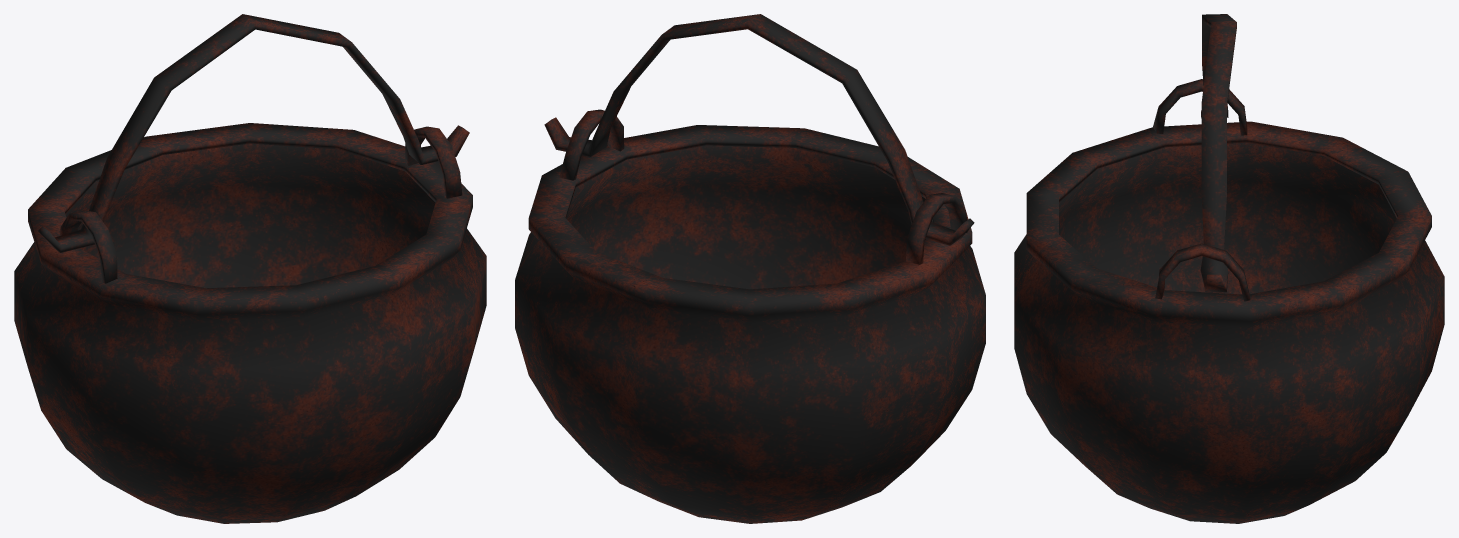
Rendered from SM_Cauldron_02.fbx.
The picture shows the model from 3 angles, left to right: view 1: azimuth 30°, elevation 25°; view 2: azimuth 150°, elevation 25°; view 3: azimuth 270°, elevation 25°; orthographic projection.
Visible parts, largest first — view 1: Kettle merged; view 2: Kettle merged; view 3: Kettle merged.
Boxes of the visible parts, bbox=[...] form: Kettle merged: bbox=[14, 14, 486, 523]; Kettle merged: bbox=[515, 14, 985, 523]; Kettle merged: bbox=[1014, 14, 1444, 523].
Size of the model in its own units: 74.71 by 77.63 by 66.71.
1 material, 1 textured.
